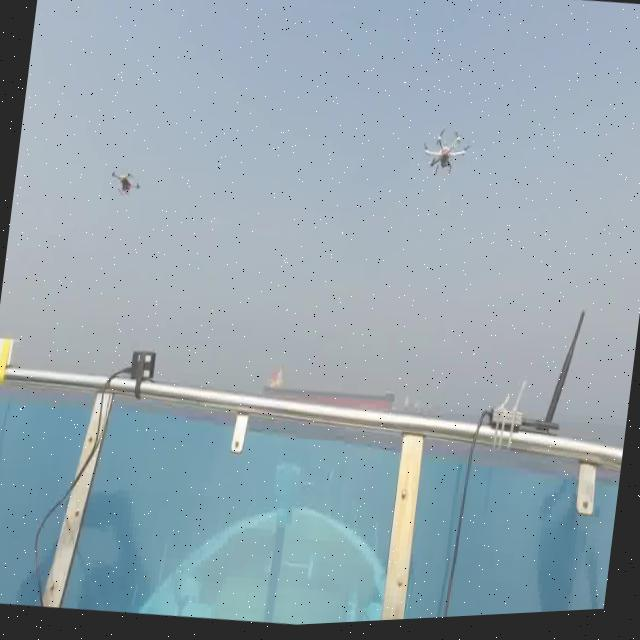drone: (418, 123, 472, 184), (106, 162, 144, 199)
